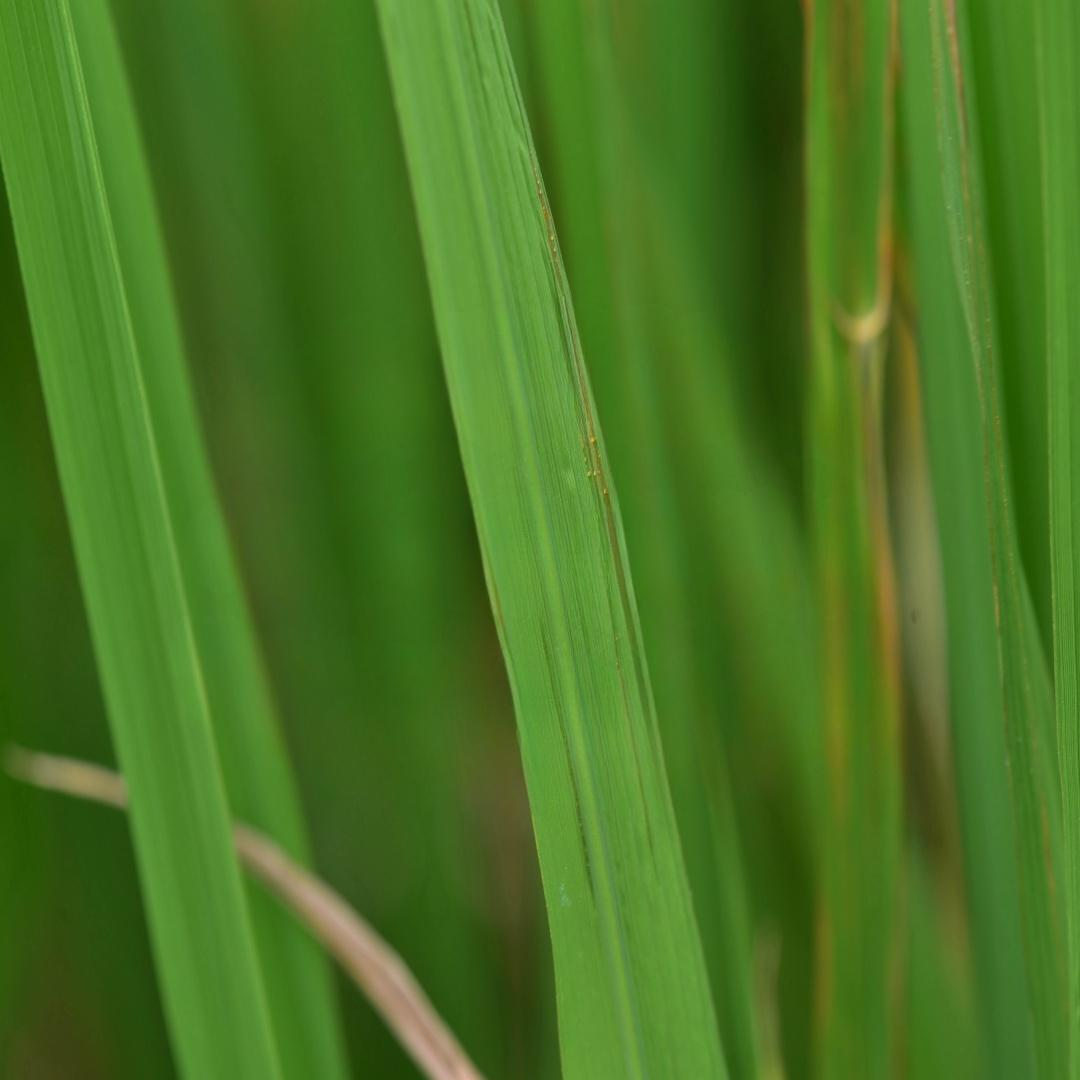BLS: (566, 316, 666, 811), (543, 641, 595, 898), (521, 116, 565, 299)
